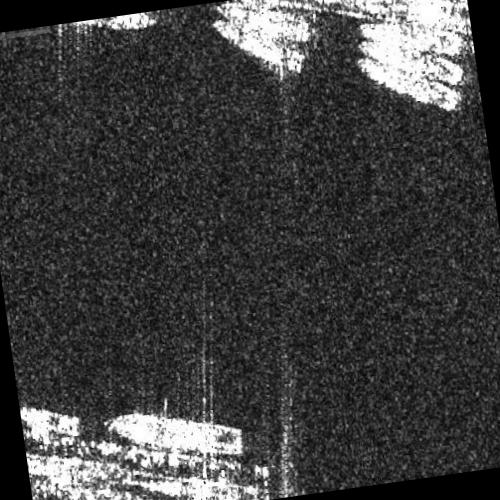ship: (104, 413, 244, 457), (356, 57, 462, 112), (212, 20, 306, 74), (358, 41, 464, 85), (217, 1, 312, 43), (359, 22, 467, 58), (21, 407, 80, 437)
